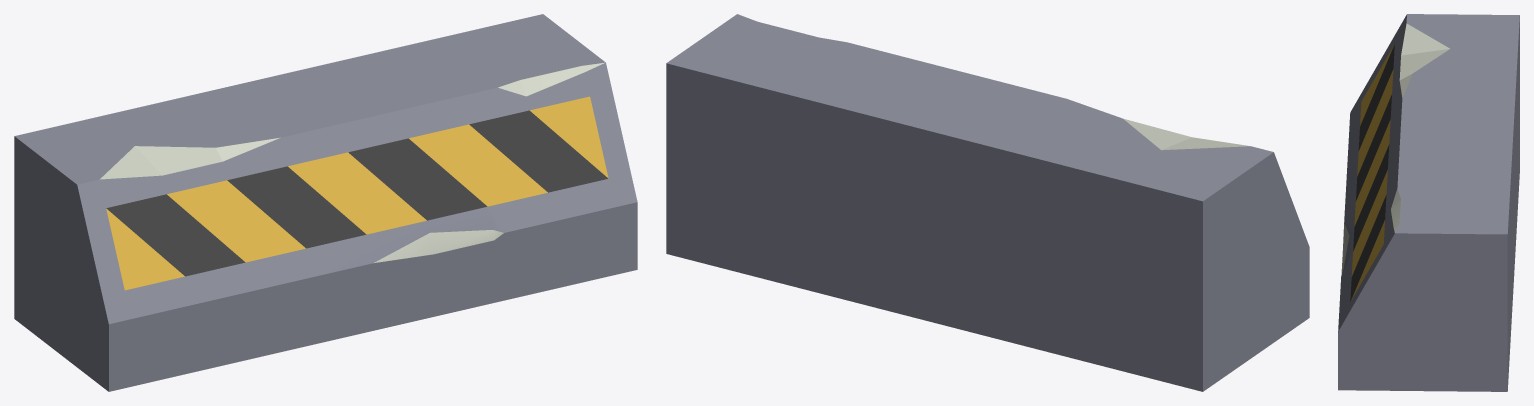
File: quaternius-toon-shooter-game-barrier-single.glb
The picture shows the model from 3 angles, left to right: view 1: azimuth 30°, elevation 25°; view 2: azimuth 150°, elevation 25°; view 3: azimuth 270°, elevation 25°; orthographic projection. The views are drawn at different scales.
Parts seen in each view (by area): view 1: Barrier_Single; view 2: Barrier_Single; view 3: Barrier_Single.
Part boxes in pixels (x1,y1,x2,y2): Barrier_Single: (14, 14, 637, 391); Barrier_Single: (666, 14, 1309, 391); Barrier_Single: (1338, 14, 1519, 391).
Size of the model in its own units: 1.89 by 0.6281 by 0.6569.
